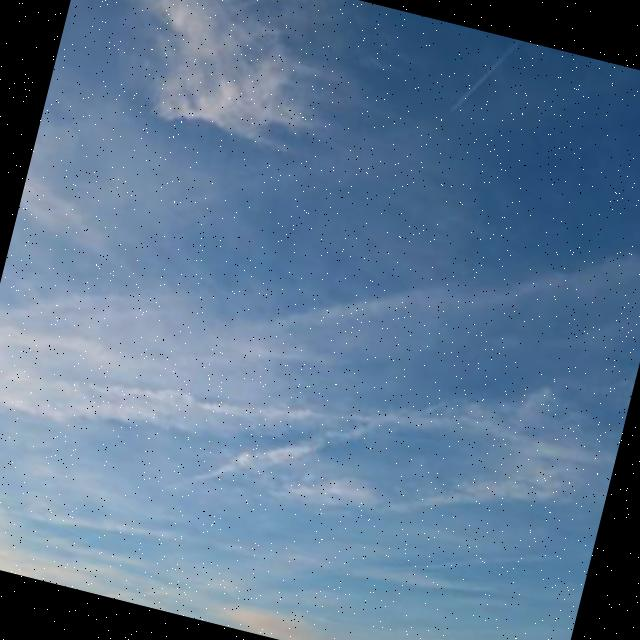Ct: (1, 1, 640, 616)
